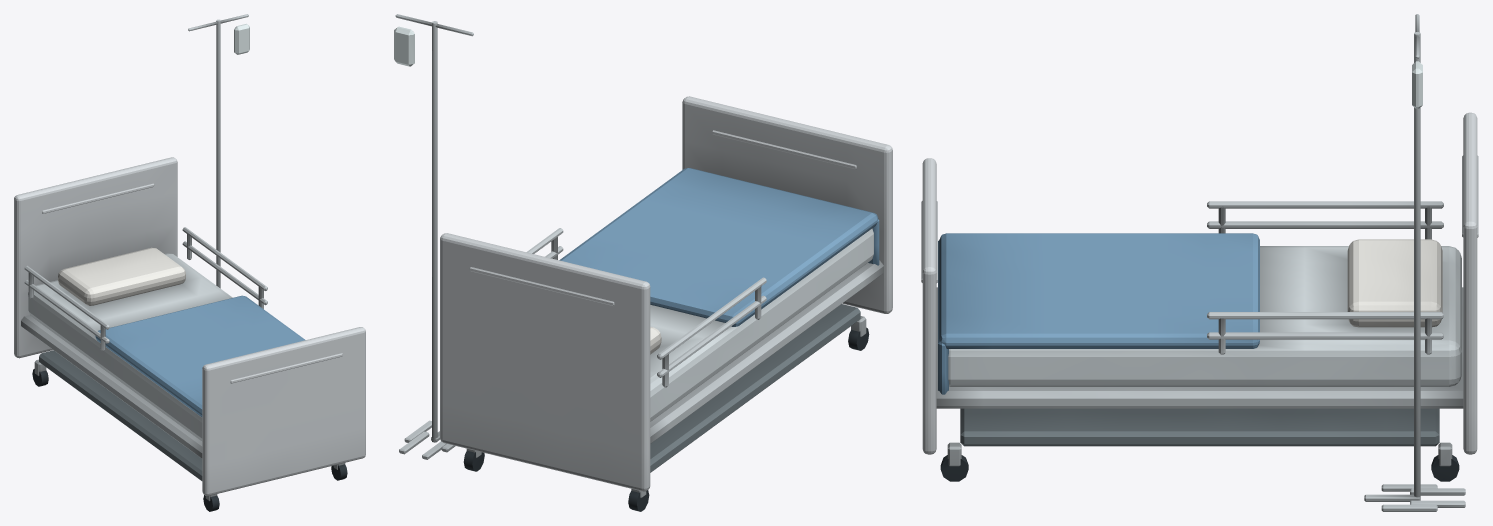
File: bed.glb
The picture shows the model from 3 angles, left to right: view 1: azimuth 30°, elevation 25°; view 2: azimuth 150°, elevation 25°; view 3: azimuth 270°, elevation 25°; orthographic projection. The views are drawn at different scales.
Parts seen in each view (by area): view 1: footboard, headboard, blanket, mattress, pillow, frame, deck, iv, rail_left, rail_right, wheels, iv_bag; view 2: headboard, blanket, footboard, mattress, frame, deck, iv, rail_left, wheels, iv_bag; view 3: blanket, mattress, frame, deck, pillow, headboard, iv, footboard, rail_right, rail_left, wheels, casters.
Boxes of the visible parts, x1,y1,x2,y2 form: footboard: (202, 327, 365, 495); headboard: (14, 157, 177, 358); blanket: (95, 295, 305, 417); mattress: (28, 253, 232, 441); pillow: (58, 247, 185, 305); frame: (39, 350, 202, 480); deck: (21, 315, 202, 458); iv: (188, 14, 248, 288); rail_left: (24, 265, 109, 351); rail_right: (182, 227, 267, 308); wheels: (32, 369, 347, 511); iv_bag: (234, 23, 249, 54); headboard: (440, 233, 650, 491); blanket: (559, 168, 879, 326); footboard: (682, 96, 892, 313); mattress: (650, 228, 873, 421); frame: (650, 304, 860, 472); deck: (650, 260, 883, 443); iv: (395, 14, 473, 459); rail_left: (657, 277, 766, 387); wheels: (463, 327, 869, 511); iv_bag: (394, 26, 414, 66); blanket: (938, 233, 1259, 394); mattress: (948, 246, 1461, 386); frame: (960, 408, 1439, 446); deck: (936, 287, 1463, 408); pillow: (1347, 239, 1442, 327); headboard: (1462, 112, 1478, 454); iv: (1364, 14, 1465, 511); footboard: (921, 158, 937, 454); rail_right: (1207, 312, 1443, 354); rail_left: (1207, 201, 1443, 239); wheels: (940, 455, 1459, 481); casters: (947, 442, 1452, 466).
Size of the model in its own units: 1.29 by 1.88 by 2.
